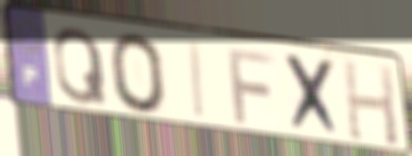F: (224, 44, 278, 127)
H: (339, 56, 401, 149)
I: (188, 39, 209, 123)
O: (107, 30, 170, 117)
Q: (50, 25, 111, 108)
X: (282, 50, 345, 141)
